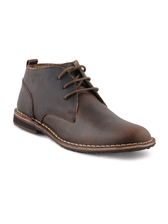shoes: (12, 56, 161, 156)
